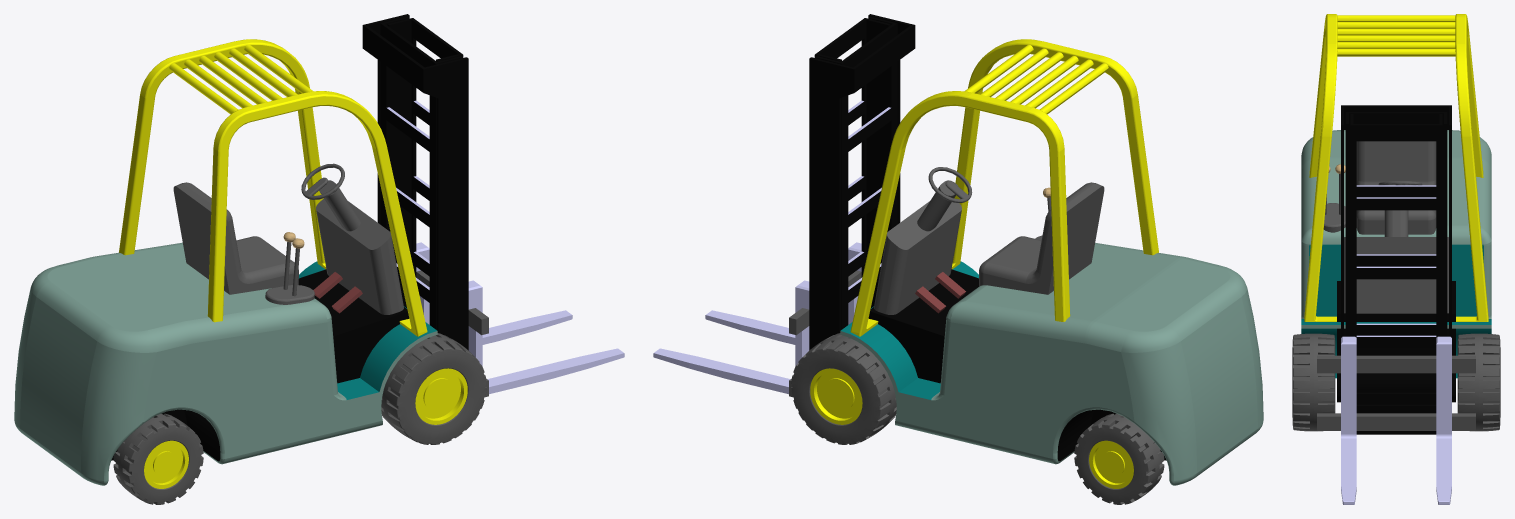
File: Gabelstapler_3-5t_4-Rad.dae
3 views of the same model, side by side, from view 1: azimuth 30°, elevation 25°; view 2: azimuth 150°, elevation 25°; view 3: azimuth 270°, elevation 25° (orthographic). The views are drawn at different scales.
Parts seen in each view (by area): view 1: Grundkorper, Schutzbuegel, Hubmast_1, Vorderrad, Hinterrad, Hubmast_3, Hubmast_2, Gabelzinken (×2); view 2: Grundkorper, Schutzbuegel, Hubmast_1, Vorderrad, Hinterrad, Hubmast_3, Hubmast_2, Gabelzinken (×2); view 3: Grundkorper, Schutzbuegel, Hubmast_3, Hubmast_2, Vorderrad (×2), Gabelzinken (×2), Gabeltrager, Hubmast_1.
Part boxes in pixels (x1,y1,x2,y2): Grundkorper: [14, 163, 437, 485]; Schutzbuegel: [119, 39, 427, 336]; Hubmast_1: [362, 14, 468, 350]; Vorderrad: [381, 333, 486, 444]; Hinterrad: [113, 413, 203, 504]; Hubmast_3: [387, 18, 463, 307]; Hubmast_2: [380, 16, 462, 329]; Gabelzinken (×2): [416, 242, 624, 394]; Grundkorper: [840, 167, 1263, 485]; Schutzbuegel: [850, 39, 1158, 336]; Hubmast_1: [809, 14, 915, 350]; Vorderrad: [791, 333, 896, 444]; Hinterrad: [1074, 413, 1164, 504]; Hubmast_3: [814, 18, 890, 308]; Hubmast_2: [815, 16, 897, 329]; Gabelzinken (×2): [653, 242, 861, 394]; Grundkorper: [1301, 130, 1491, 402]; Schutzbuegel: [1304, 14, 1488, 321]; Hubmast_3: [1350, 114, 1442, 413]; Hubmast_2: [1345, 112, 1447, 404]; Vorderrad (×2): [1292, 333, 1500, 431]; Gabelzinken (×2): [1341, 336, 1451, 504]; Gabeltrager: [1317, 355, 1475, 430]; Hubmast_1: [1341, 105, 1451, 434].
Size of the model in its own units: 3631 by 1311 by 2308.
